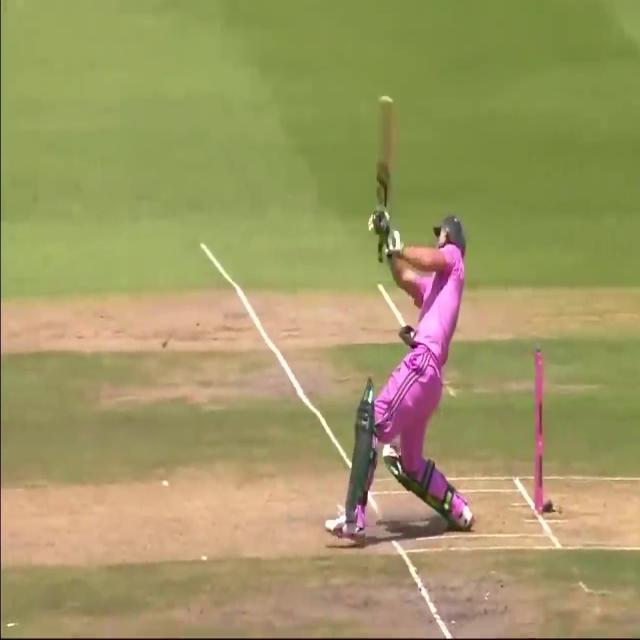Ball: (323, 201, 476, 540)
